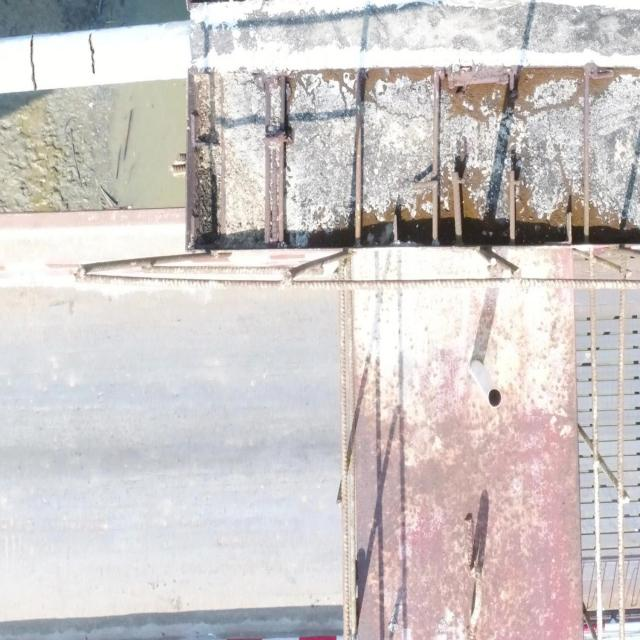crack: (28, 34, 36, 91), (86, 33, 96, 74)
